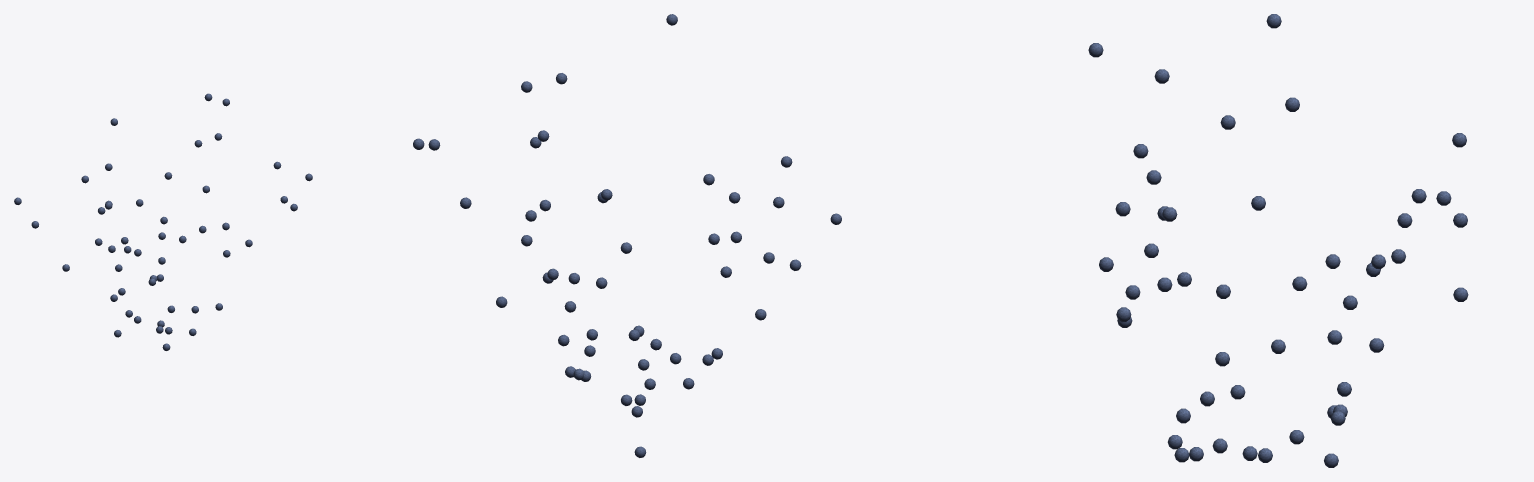
File: juniperfruit.glb
3 views of the same model, side by side, from view 1: azimuth 30°, elevation 25°; view 2: azimuth 150°, elevation 25°; view 3: azimuth 270°, elevation 25° (orthographic). The views are drawn at different scales.
Parts seen in each view (by area): view 1: juniperfruit; view 2: juniperfruit; view 3: juniperfruit.
Boxes of the visible parts, <box> form: juniperfruit: <box>14,93,312,350</box>; juniperfruit: <box>413,14,841,457</box>; juniperfruit: <box>1088,14,1468,467</box>.
Size of the model in its own units: 1.01 by 0.9712 by 0.8181.
Materials: 1 (1 with a texture image).
